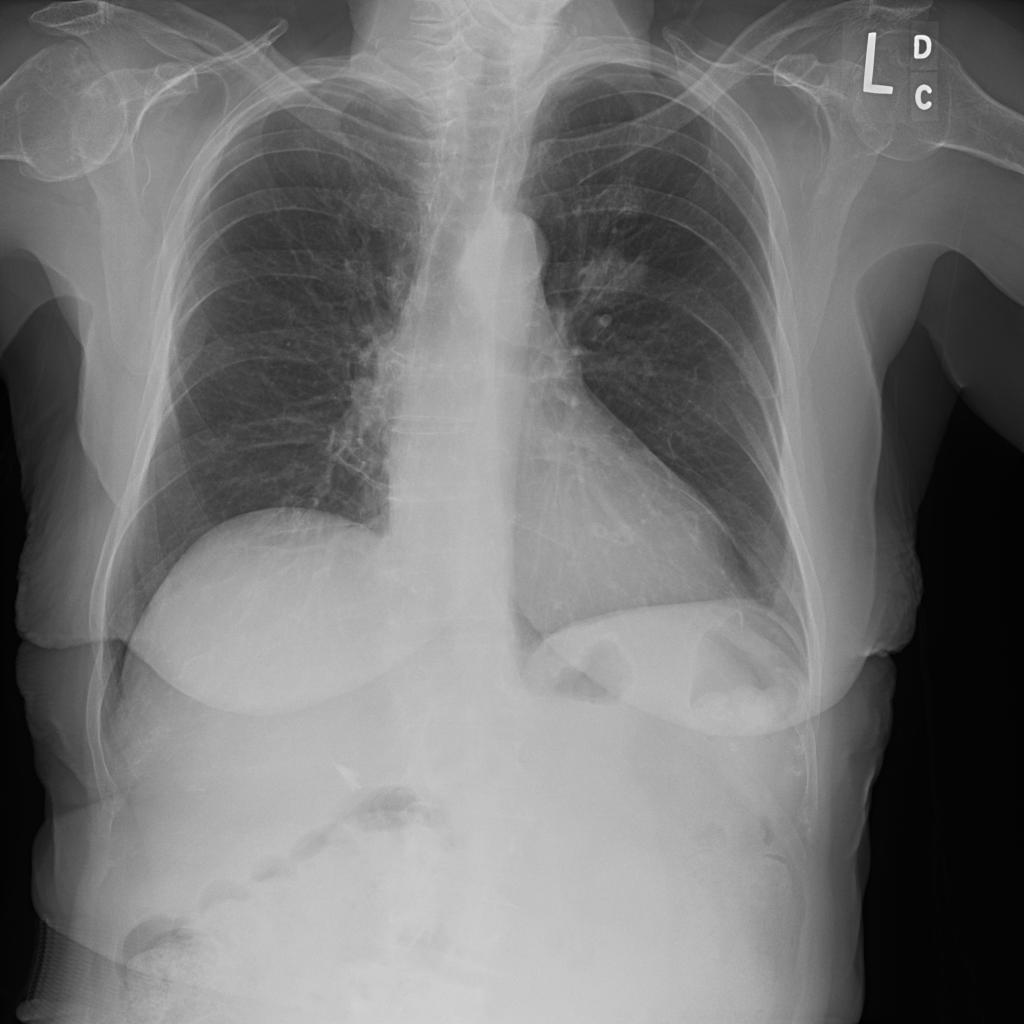Nodule: (296, 128, 327, 156)
